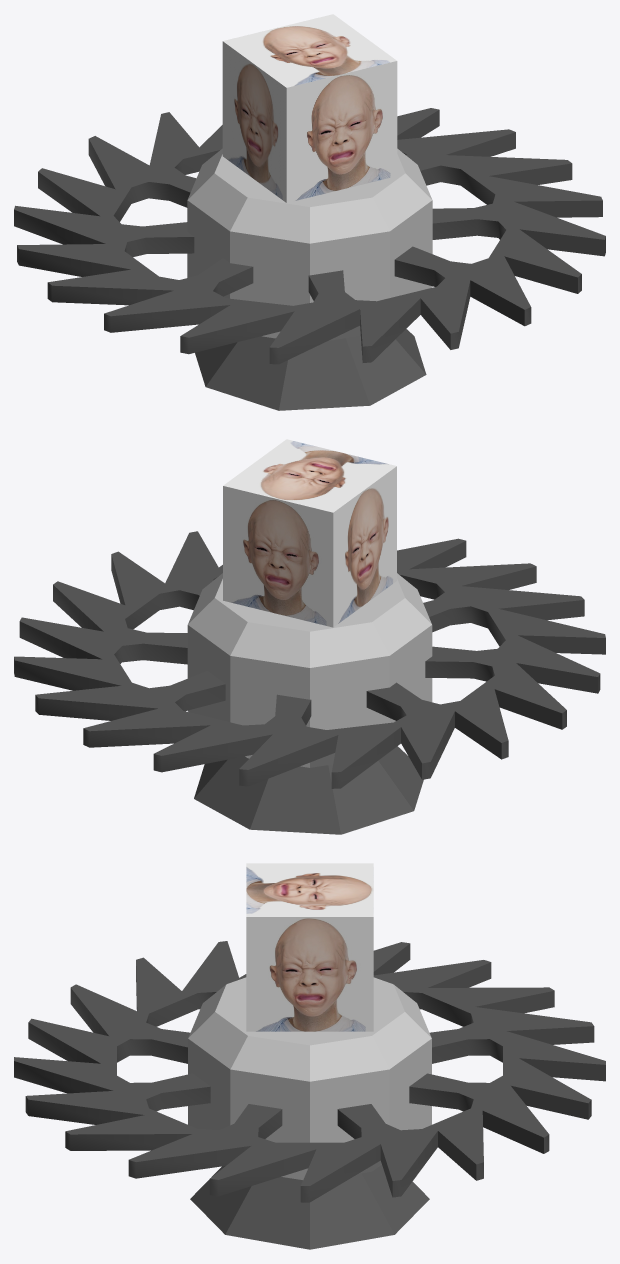
Rendered from Spaw.fbx.
3 renders of one model, top to bottom at view 1: azimuth 30°, elevation 25°; view 2: azimuth 150°, elevation 25°; view 3: azimuth 270°, elevation 25°, orthographic.
Parts seen in each view (by area): view 1: Cap_2, Extrude, Cube, Cylinder, Cone; view 2: Cap_2, Extrude, Cube, Cylinder, Cone; view 3: Cap_2, Extrude, Cylinder, Cube, Cone.
Part boxes in pixels (x1,y1,x2,y2): Cap_2: (14,108,605,347); Extrude: (14,109,605,364); Cube: (222,14,397,202); Cylinder: (187,148,432,340); Cone: (195,329,426,410); Cap_2: (14,531,605,772); Extrude: (14,541,605,788); Cube: (223,439,396,627); Cylinder: (187,573,432,767); Cone: (194,746,423,834); Cap_2: (14,941,605,1185); Extrude: (14,943,605,1202); Cylinder: (188,977,431,1179); Cube: (246,863,373,1031); Cone: (190,1164,429,1249).
Size of the model in its own units: 326 by 188 by 326.
Materials: 3 (1 with a texture image).
